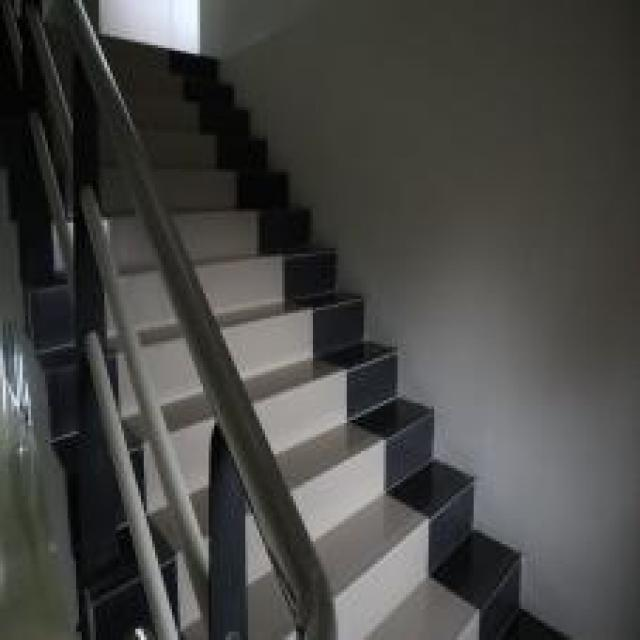upstair: (221, 182, 359, 419)
